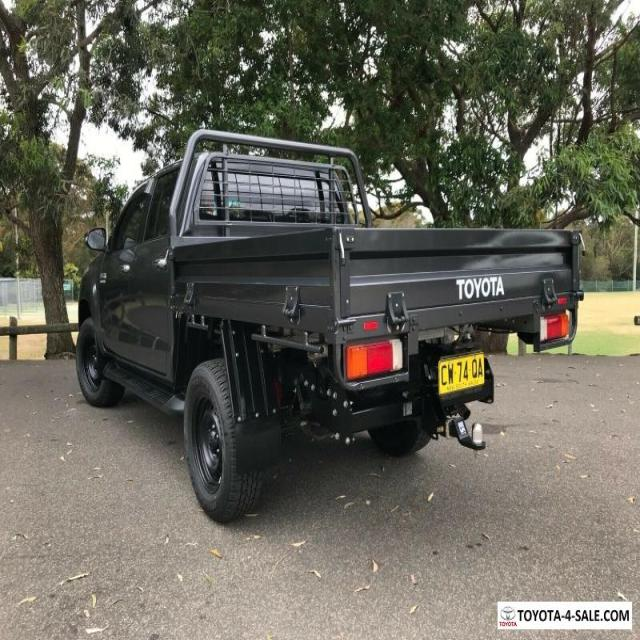light_vehicle: (68, 121, 592, 522)
